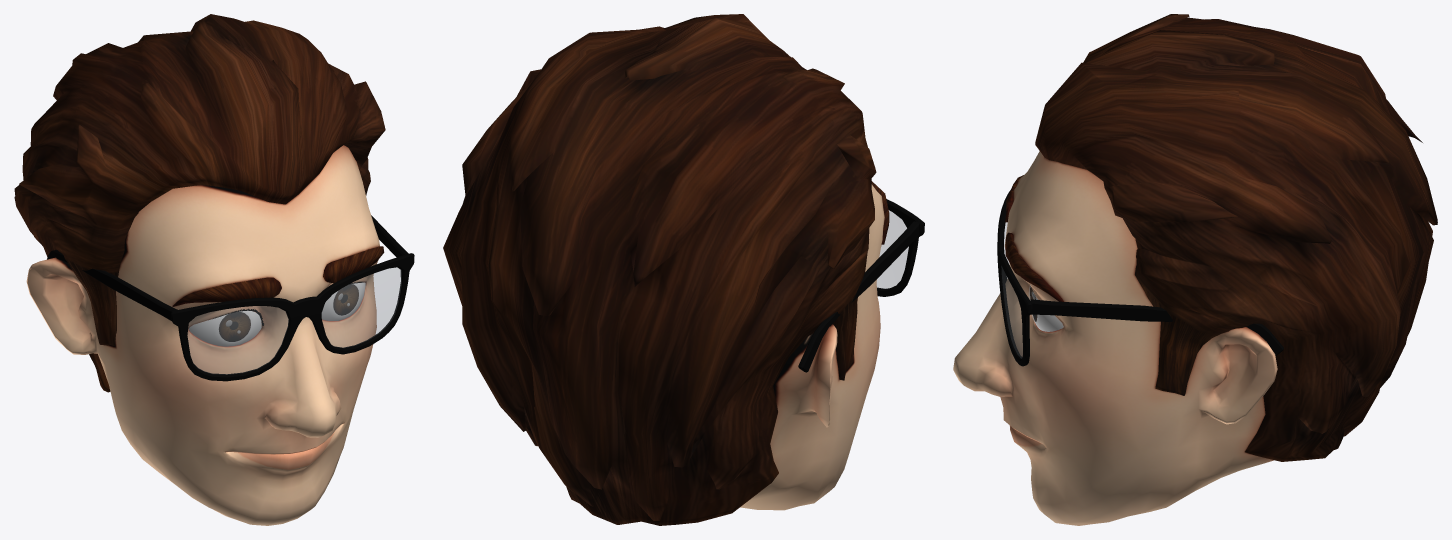
File: head.FBX
3 views of the same model, side by side, from view 1: azimuth 30°, elevation 25°; view 2: azimuth 150°, elevation 25°; view 3: azimuth 270°, elevation 25° (orthographic). The views are drawn at different scales.
Visible parts, largest first — view 1: face_neutral, hair, eyeglass, eyeglass_frame, r_eyeball, r_spec_eyeball, l_eyeball, l_spec_eyeball; view 2: hair, face_neutral, eyeglass_frame, eyeglass; view 3: hair, face_neutral, eyeglass_frame, eyeglass.
Part boxes in pixels (x1,y1,x2,y2): face_neutral: (26,145,384,525); hair: (14,14,385,392); eyeglass: (187,267,401,374); eyeglass_frame: (47,215,414,381); r_eyeball: (189,310,261,346); r_spec_eyeball: (189,311,260,346); l_eyeball: (321,282,365,320); l_spec_eyeball: (322,283,364,320); hair: (443,14,876,525); face_neutral: (740,181,889,510); eyeglass_frame: (798,199,924,372); eyeglass: (877,210,908,288); hair: (1035,14,1437,461); face_neutral: (953,151,1277,525); eyeglass_frame: (997,190,1283,366); eyeglass: (1001,222,1022,358).
Bounding box in the file's own units: 0.2175 × 0.2893 × 0.2643.
